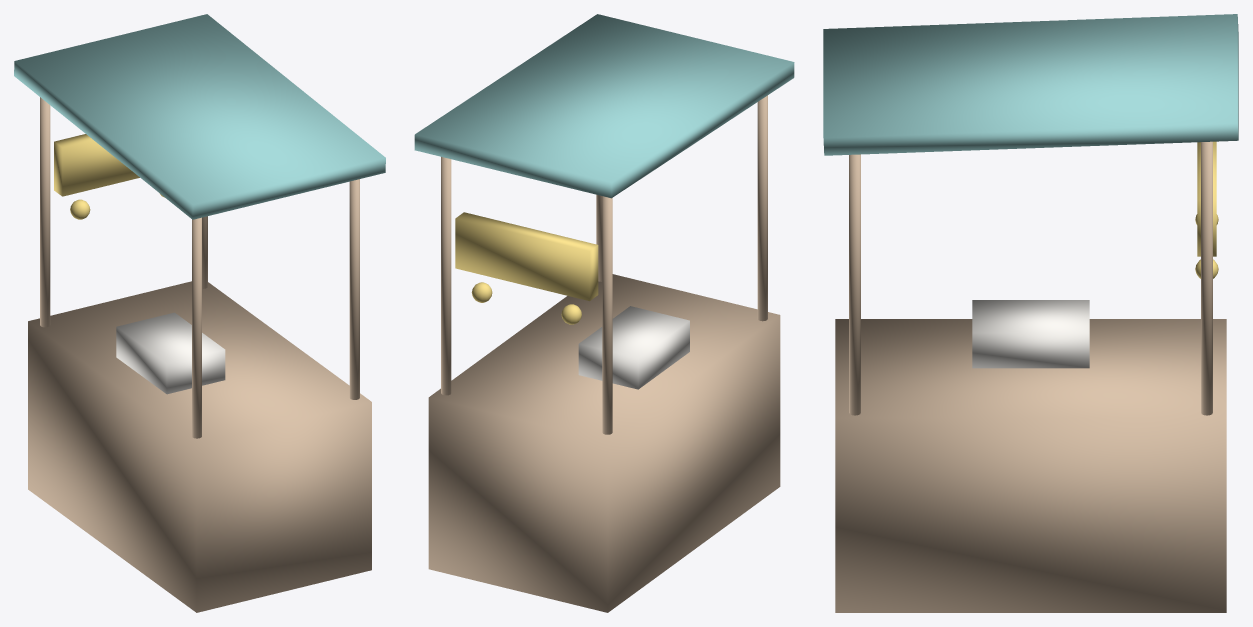
File: night_market_lv1.glb
The picture shows the model from 3 angles, left to right: view 1: azimuth 30°, elevation 25°; view 2: azimuth 150°, elevation 25°; view 3: azimuth 270°, elevation 25°; orthographic projection. The views are drawn at different scales.
Visible parts, largest first — view 1: stall1_tbl, stall1_can, box, glow_sign, stall1_p3, stall1_p2, stall1_p1; view 2: stall1_tbl, stall1_can, glow_sign, box, stall1_p4, stall1_p3, stall1_p1, stall1_p2; view 3: stall1_tbl, stall1_can, box, stall1_p4, stall1_p2, glow_sign.
Part boxes in pixels (left/top/right/bottom): stall1_tbl: left=28, top=281, right=371, bottom=612; stall1_can: left=14, top=14, right=385, bottom=219; box: left=116, top=312, right=225, bottom=394; glow_sign: left=54, top=134, right=139, bottom=196; stall1_p3: left=40, top=97, right=50, bottom=327; stall1_p2: left=349, top=179, right=359, bottom=399; stall1_p1: left=192, top=217, right=201, bottom=438; stall1_tbl: left=428, top=274, right=780, bottom=612; stall1_can: left=414, top=14, right=794, bottom=198; glow_sign: left=455, top=212, right=598, bottom=301; box: left=578, top=306, right=689, bottom=389; stall1_p4: left=441, top=157, right=451, bottom=395; stall1_p3: left=602, top=196, right=612, bottom=434; stall1_p1: left=757, top=95, right=767, bottom=321; stall1_p2: left=596, top=194, right=602, bottom=281; stall1_tbl: left=835, top=319, right=1226, bottom=612; stall1_can: left=823, top=14, right=1238, bottom=155; box: left=972, top=300, right=1089, bottom=368; stall1_p4: left=1201, top=141, right=1212, bottom=415; stall1_p2: left=849, top=154, right=860, bottom=415; glow_sign: left=1197, top=141, right=1216, bottom=256.
Size of the model in its own units: 0.66 by 1.4 by 1.06.
